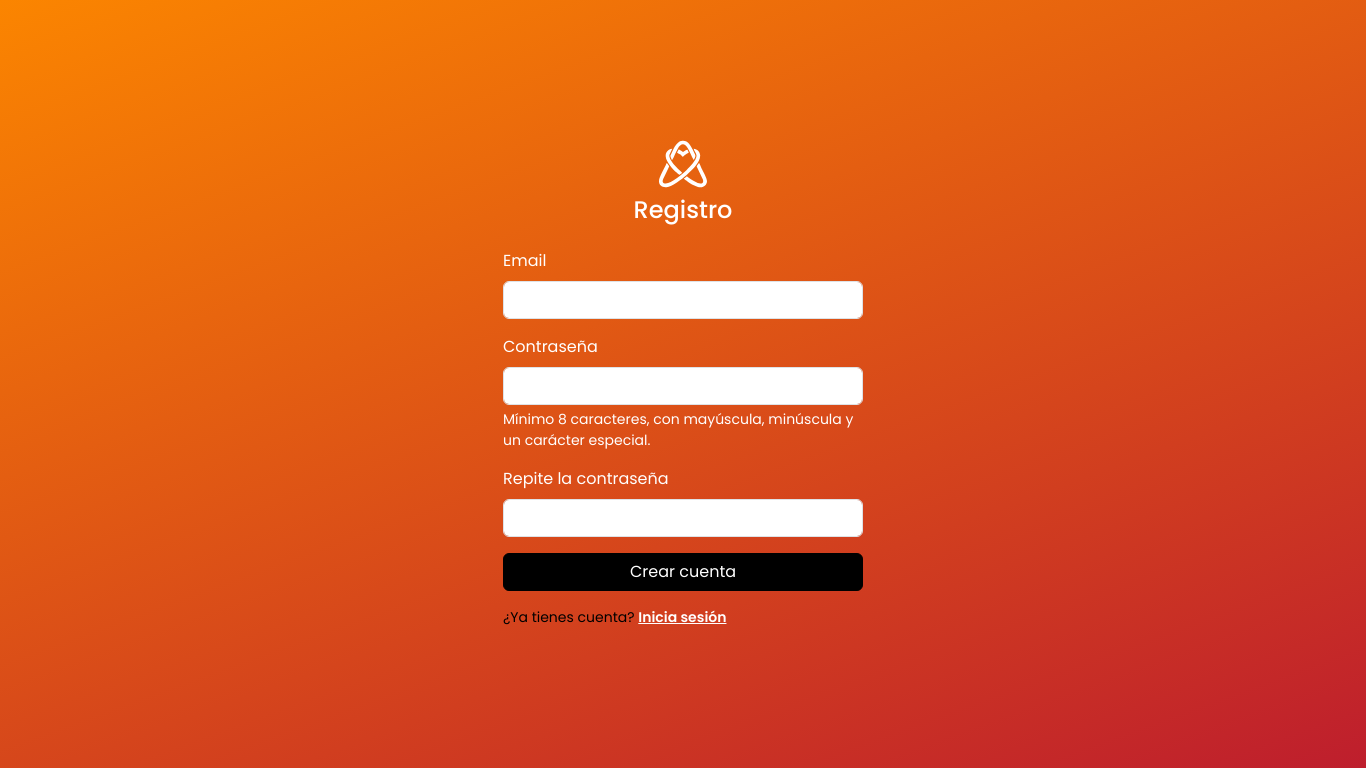
Scenario: RegisterComponent (tarea 12.3) › muestra el error de email ya en uso sin crear una cuenta duplicada
This screenshot has width=1366, height=768.
In the field with id "email": (683, 300) [503,281,863,319], type "ya-existe@example.com"
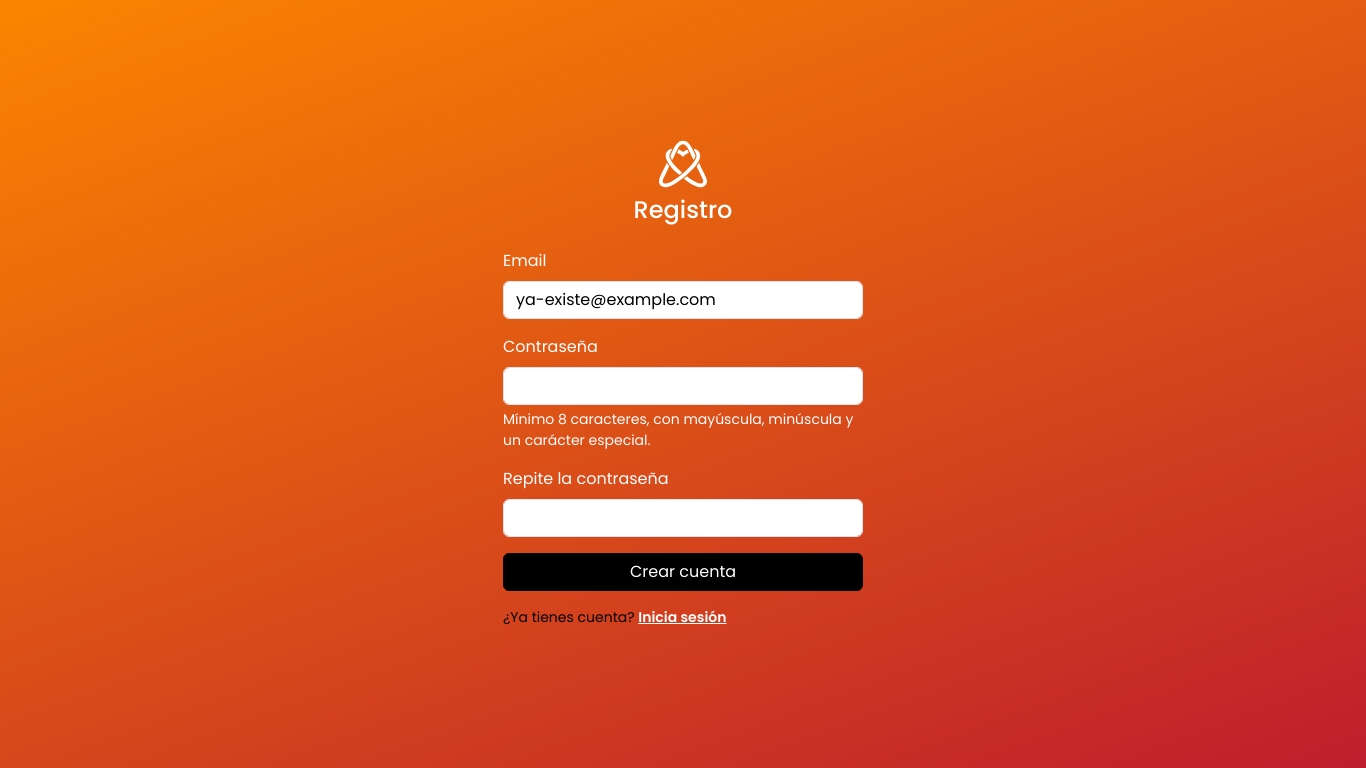
In the password field labelled "Contraseña": (683, 386) [503,367,863,405], type "ContraseñaLarga1!"
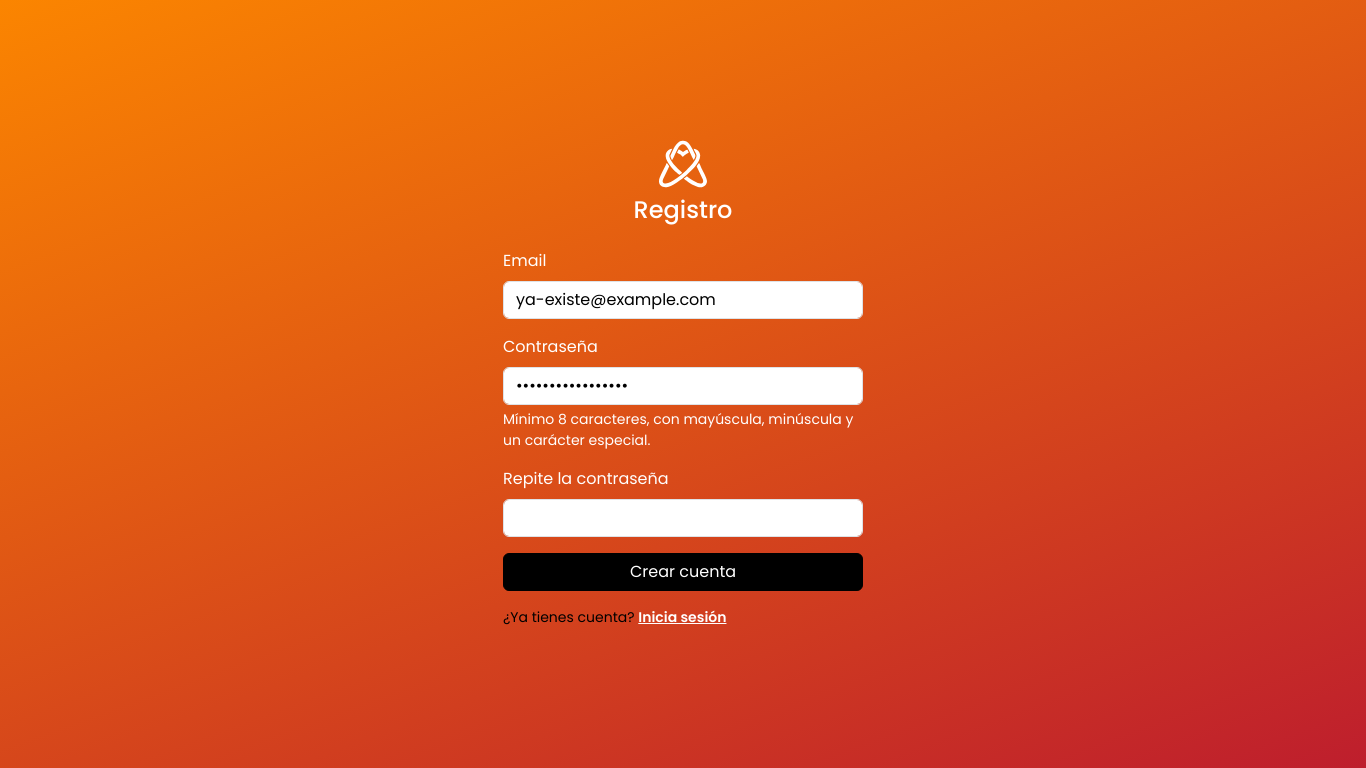
In the password field labelled "Repite la contraseña": (683, 518) [503,499,863,537], type "ContraseñaLarga1!"
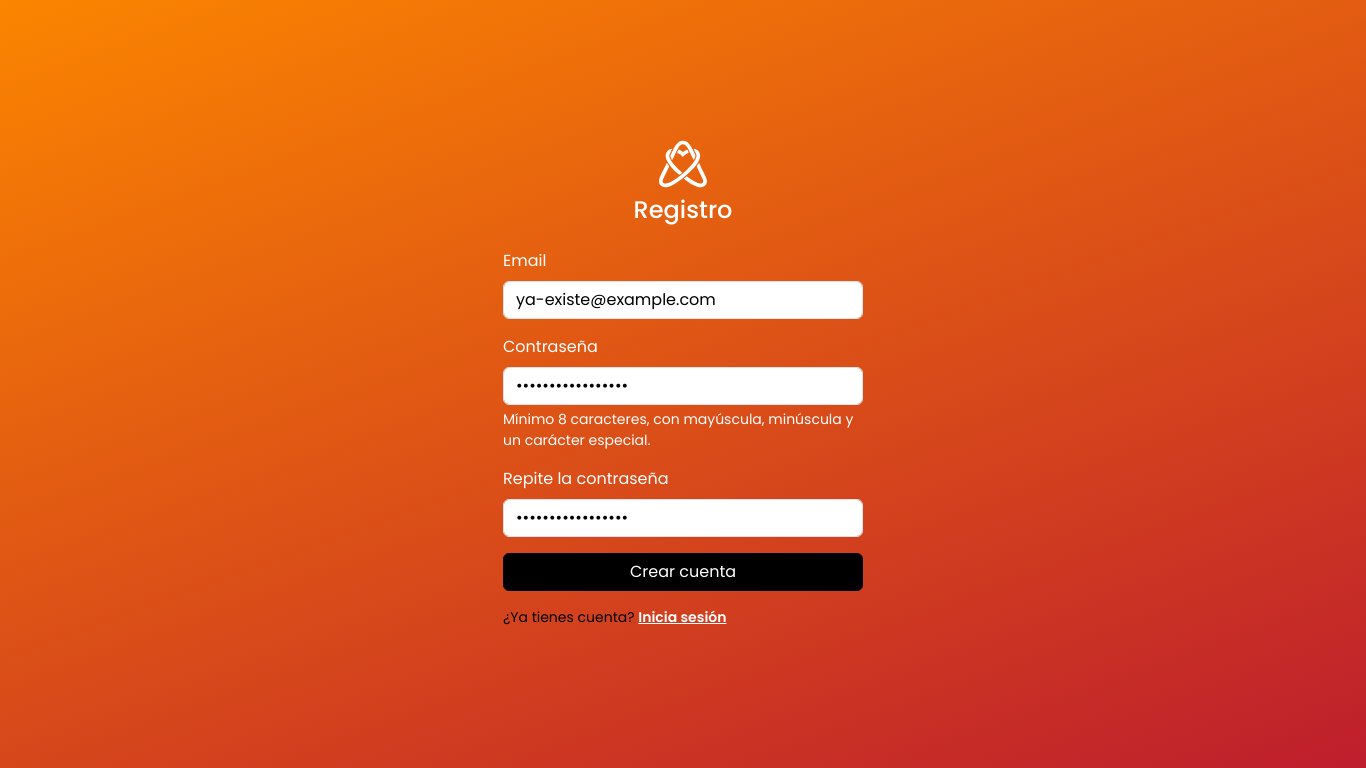
Submit the form, box [503,249,863,628]
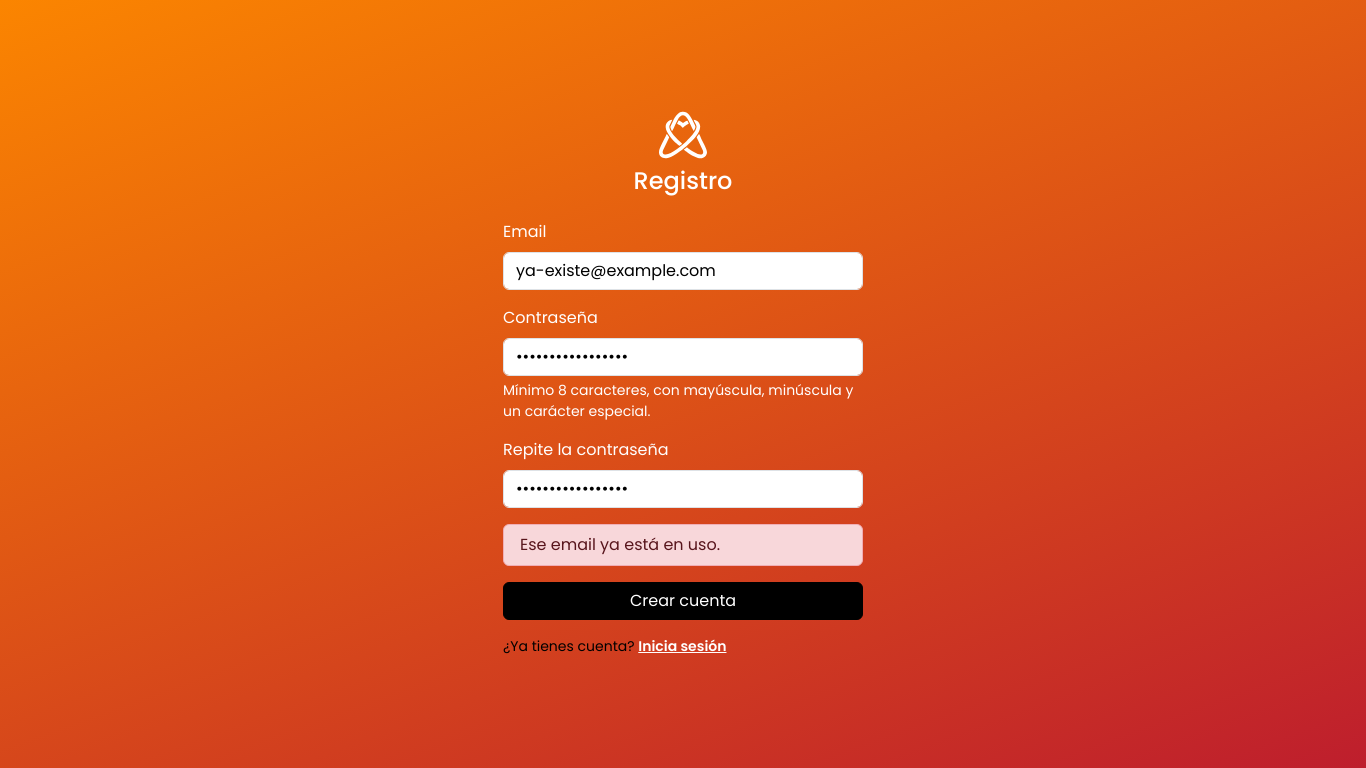
Expected: the message with class "alert-danger" shows "ya está en uso", [520,533,720,556]
